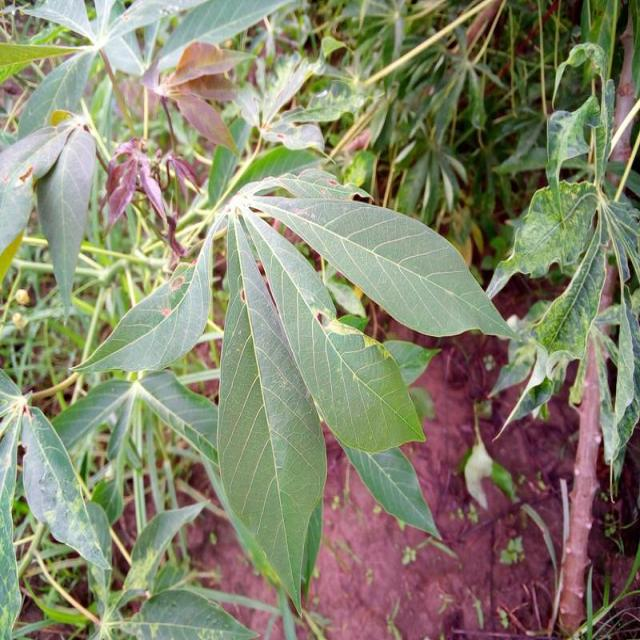cassava leaf: (70, 168, 516, 616), (215, 206, 328, 616), (244, 191, 517, 341)
